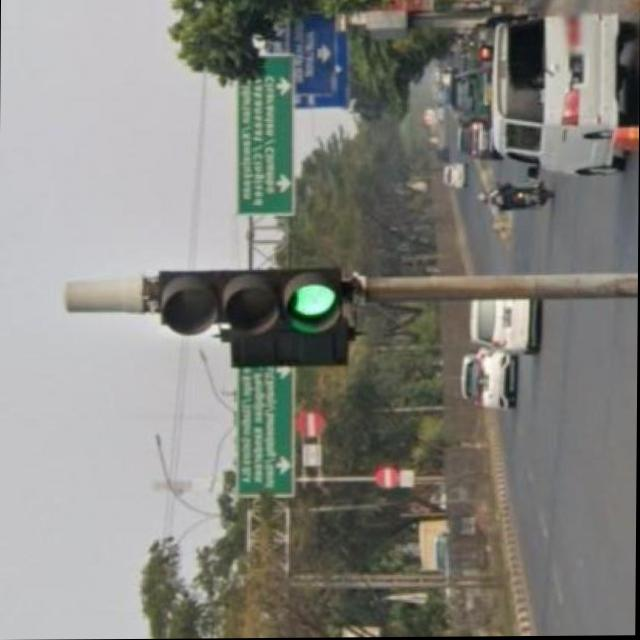green light: (158, 276, 344, 333)
